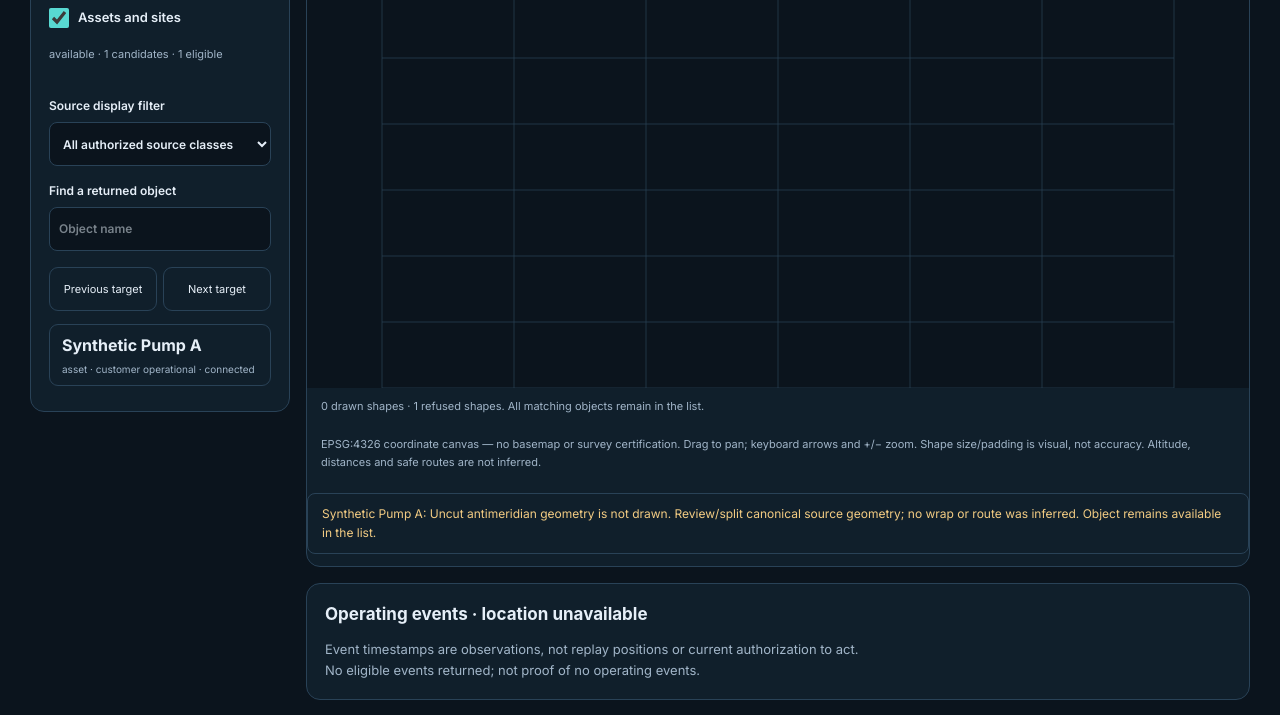
governed customer-reachable Context workspace › keeps refused antimeridian geometry in the list without claiming it was drawn
(page scrolled)
Expected: the text "0 drawn shapes · 1 refused shapes. All matching objects remain in the list." is shown, x1=321 y1=399 x2=704 y2=413
Expected: the text "Uncut antimeridian geometry" is shown, x1=430 y1=506 x2=1079 y2=521
Click the button "Synthetic Pump A asset · customer operational · connected" at (160, 356), box x1=49 y1=324 x2=271 y2=386
(page scrolled)
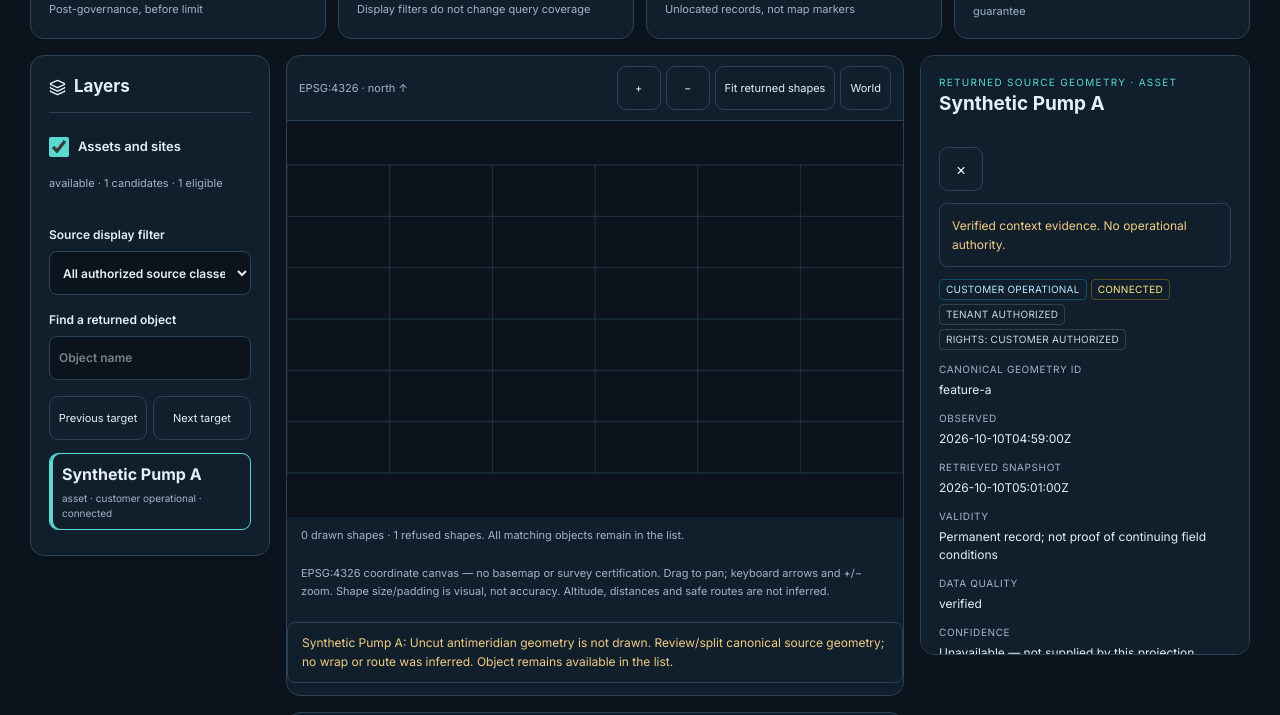
Now the element named "Selected object inspector" is shown, box x1=920 y1=55 x2=1250 y2=655
